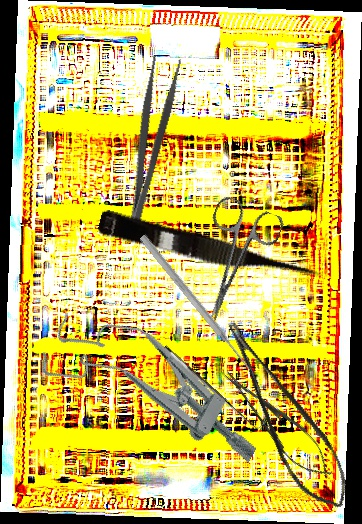Dressing Forceps: (108, 52, 185, 242)
Hook Surgical: (162, 338, 267, 435)
Iris Scissors: (178, 194, 286, 331)
Micro Scissor: (220, 303, 360, 524), (95, 208, 325, 295)
Needle Holder: (213, 360, 342, 488)
Pusher: (137, 233, 255, 374)
Speculum: (34, 294, 281, 478)
